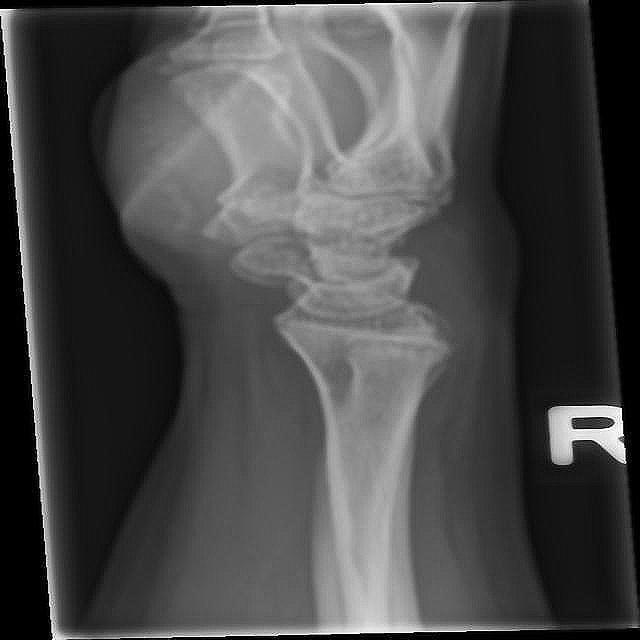bone: (291, 340, 462, 380)
